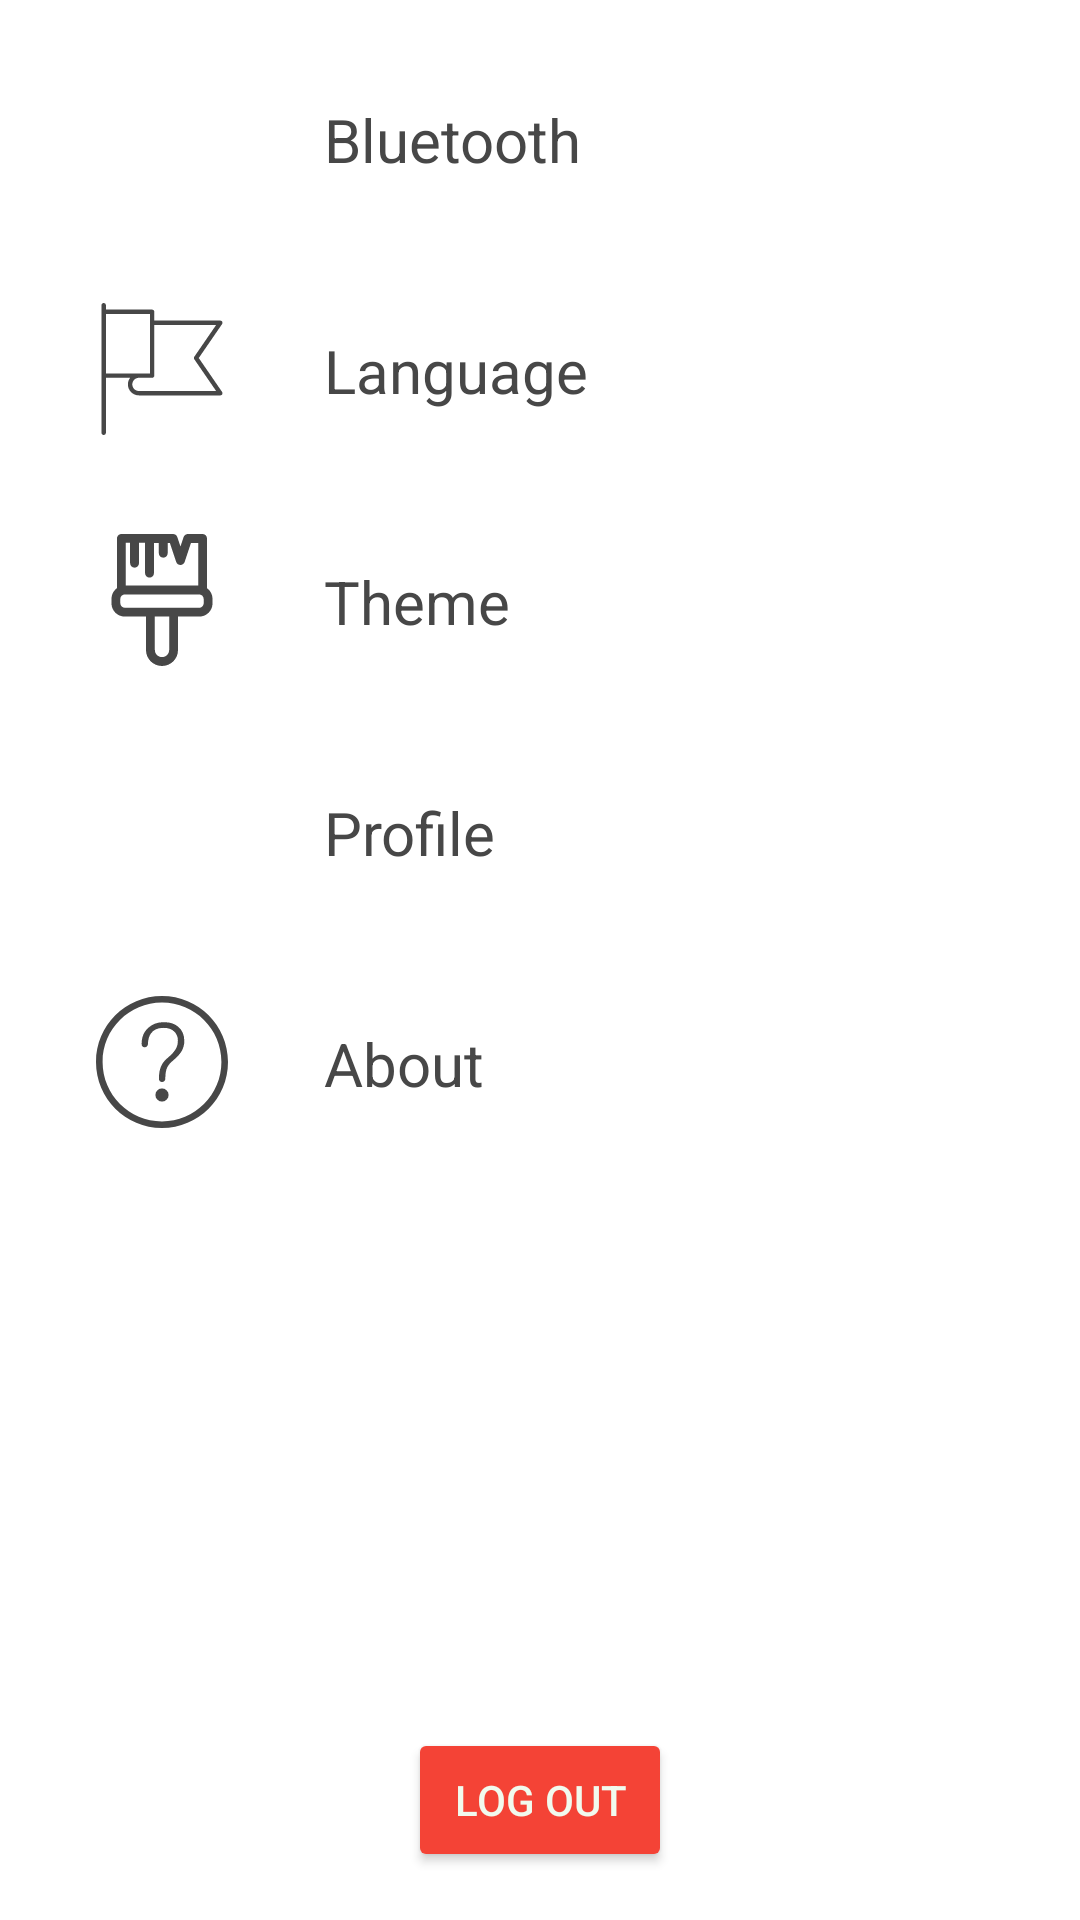

Locate icon controls on the screen. Image size 1080 × 1920, boxes as (x1, y1, x2, y2).
flag: (101, 303, 223, 435)
paint brush: (111, 534, 213, 666)
question: (96, 996, 228, 1128)
